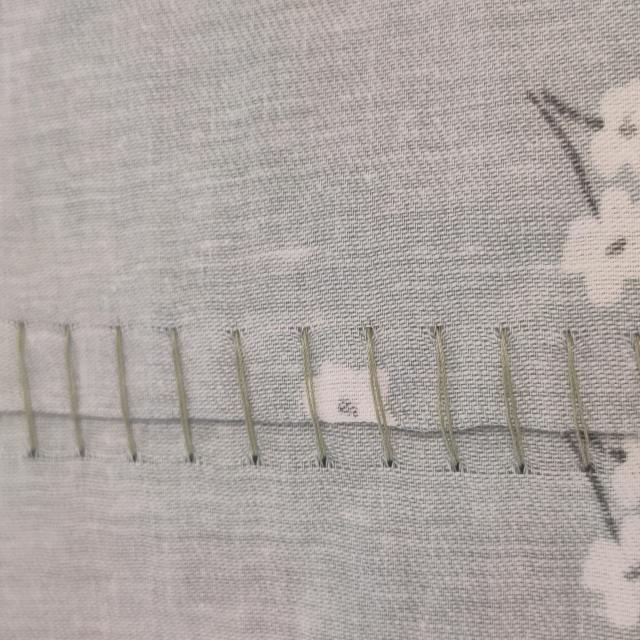gray stitch: (11, 313, 605, 483)
